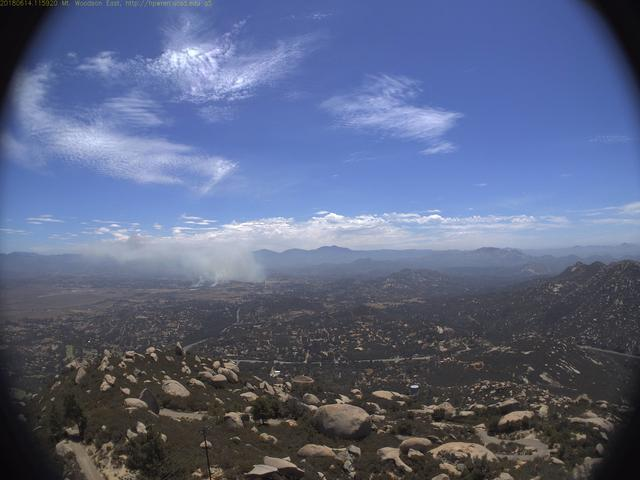smoke: (98, 225, 272, 289)
